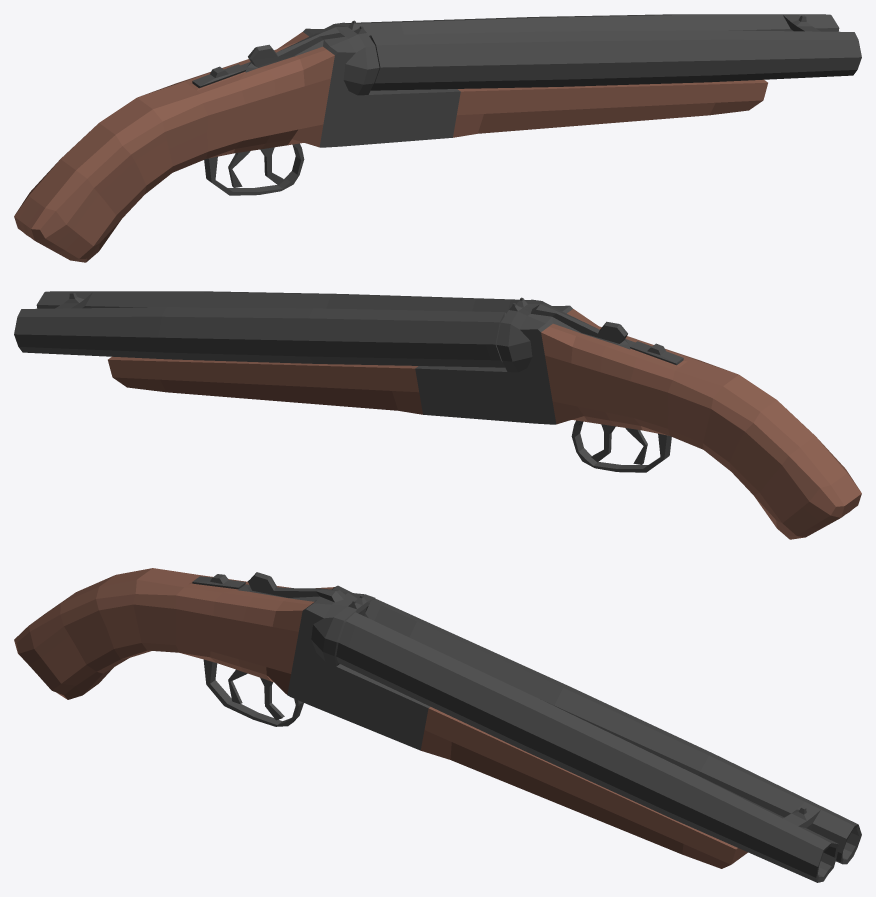
Rendered from DoubleBarrelledLowPoly.fbx.
3 renders of one model, top to bottom at view 1: azimuth 30°, elevation 25°; view 2: azimuth 150°, elevation 25°; view 3: azimuth 330°, elevation 25°, orthographic.
Visible parts, largest first — view 1: Cube; view 2: Cube; view 3: Cube.
Boxes of the visible parts, <box> form: Cube: <box>14,14,861,262</box>; Cube: <box>14,291,861,539</box>; Cube: <box>14,568,861,882</box>.
Bounding box in the file's own units: 492 × 97.94 × 47.5.
